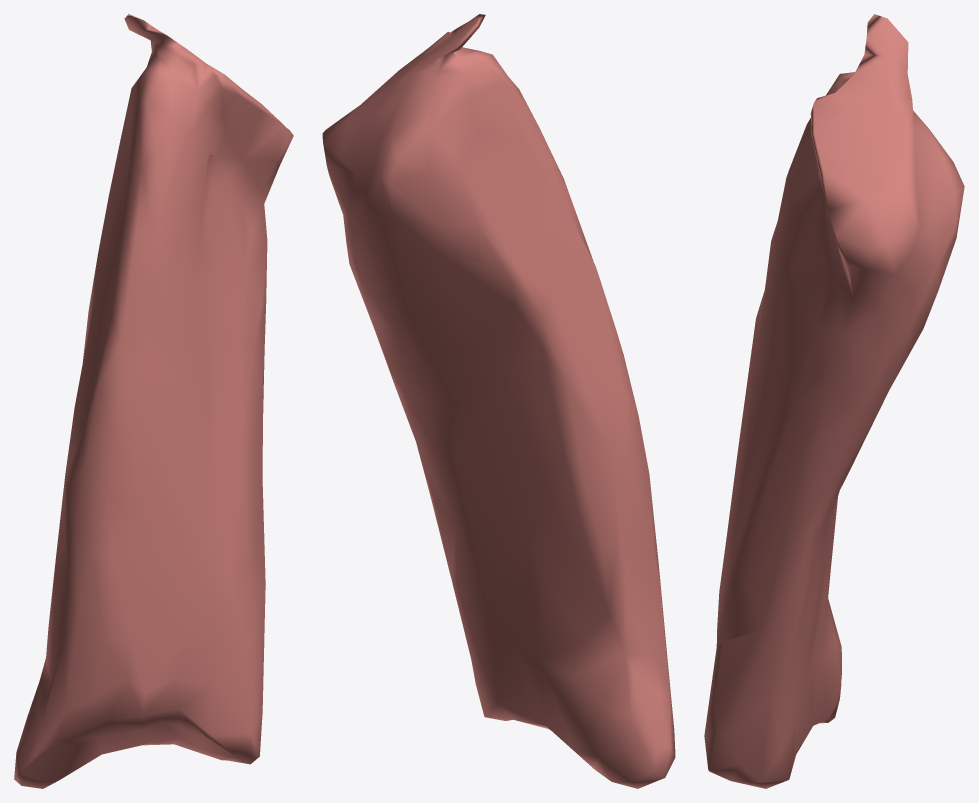
File: fma81542_mm1331.glb
The picture shows the model from 3 angles, left to right: view 1: azimuth 30°, elevation 25°; view 2: azimuth 150°, elevation 25°; view 3: azimuth 270°, elevation 25°; orthographic projection. The views are drawn at different scales.
Parts seen in each view (by area): view 1: FMA81542_MM1331; view 2: FMA81542_MM1331; view 3: FMA81542_MM1331.
Boxes of the visible parts, bbox=[...] form: FMA81542_MM1331: bbox=[14, 14, 293, 788]; FMA81542_MM1331: bbox=[322, 14, 675, 788]; FMA81542_MM1331: bbox=[704, 14, 964, 788].
Bounding box in the file's own units: 0.00691 × 0.0159 × 0.00492.
